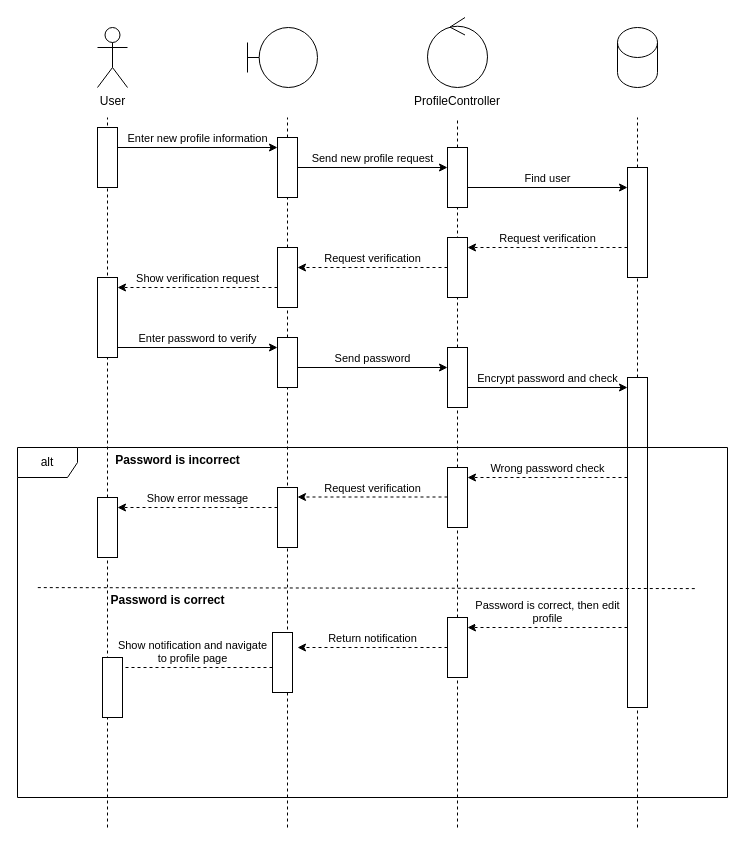
Image size: 745x846. Some labels were removed from this diagram. Here are the shapes that lost their labels. From the top down, the centre of each, then its label:
At (282,57): "ProfileForm".
At (637,57): "User Database".
